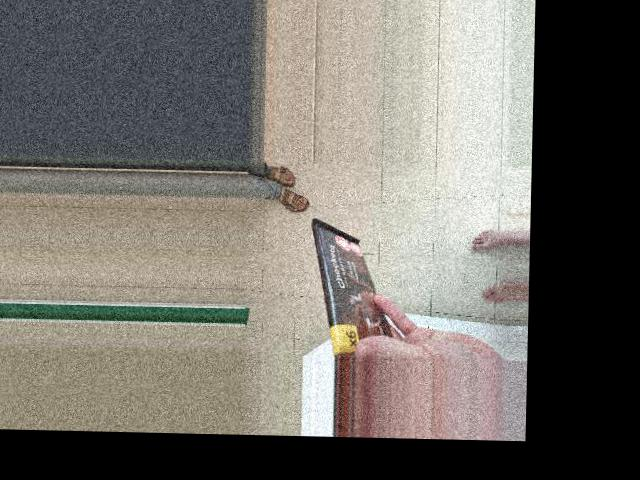chocolate: (298, 186, 442, 303)
